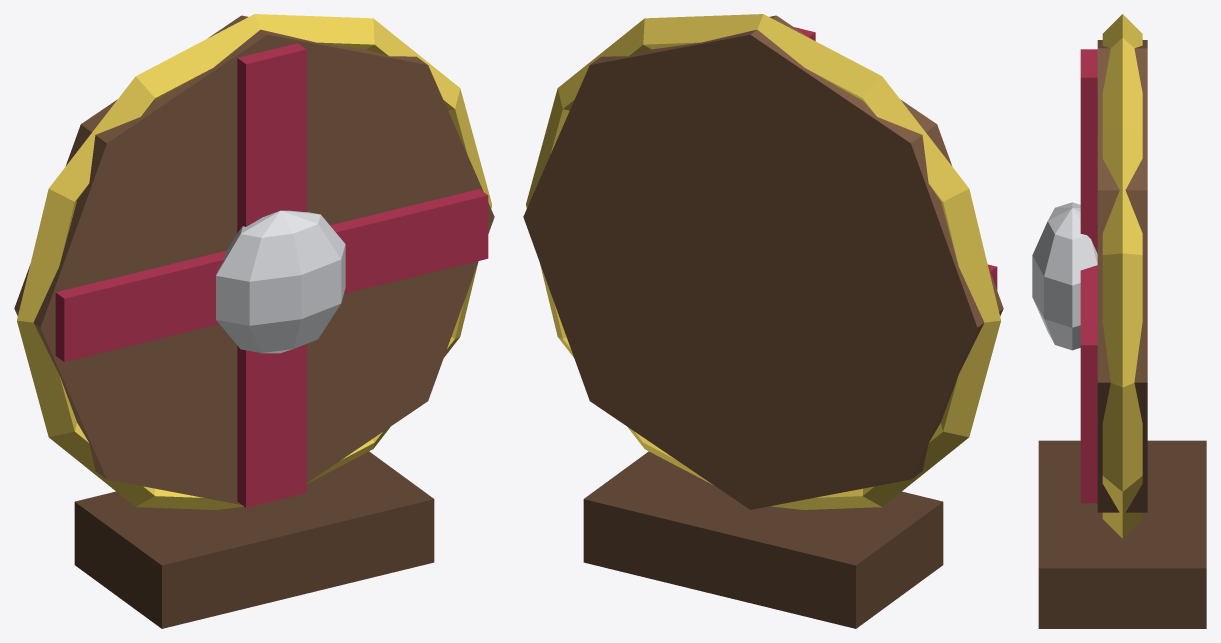
The model's file is std_shield.glb.
The picture shows the model from 3 angles, left to right: view 1: azimuth 30°, elevation 25°; view 2: azimuth 150°, elevation 25°; view 3: azimuth 270°, elevation 25°; orthographic projection. The views are drawn at different scales.
Parts seen in each view (by area): view 1: std_shield; view 2: std_shield; view 3: std_shield.
Part boxes in pixels (bbox=[...]): std_shield: bbox=[14, 14, 494, 628]; std_shield: bbox=[523, 14, 1003, 628]; std_shield: bbox=[1032, 14, 1206, 628].
Size of the model in its own units: 0.3 by 0.3315 by 0.0991.
